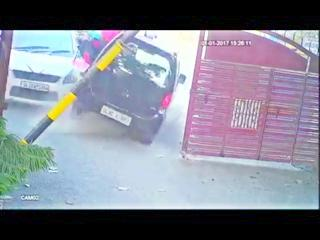Car: (71, 35, 184, 144), (6, 29, 83, 115)
Major Accident: (6, 29, 185, 146)
